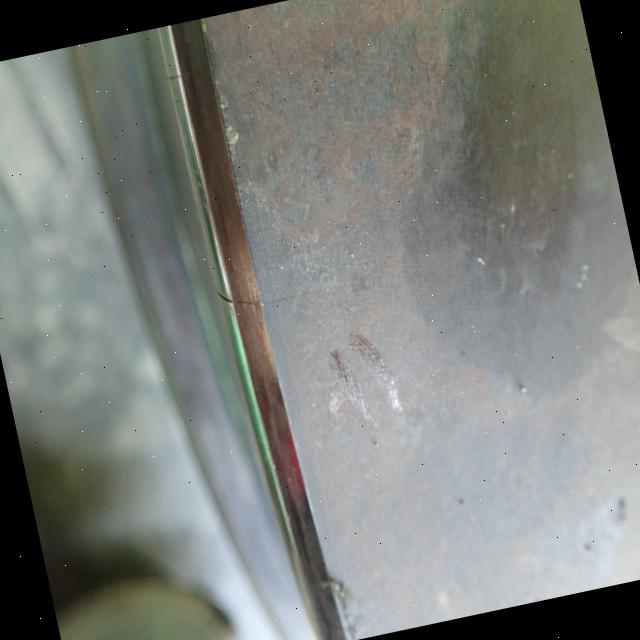Brake_Thermal_Cracks: (216, 263, 314, 328), (159, 61, 203, 99)
